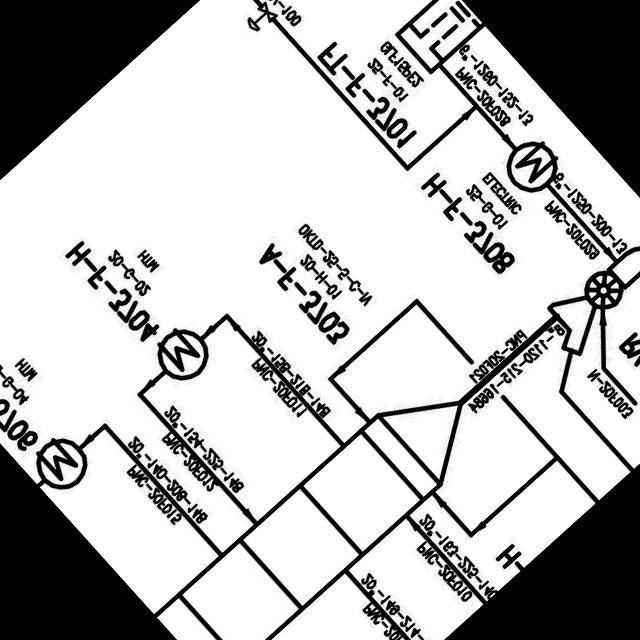A3: (147, 357, 499, 640)
HE: (490, 128, 567, 205), (143, 316, 220, 392), (21, 425, 96, 499)
PCV: (236, 0, 283, 40)
RV2: (527, 220, 640, 371)
